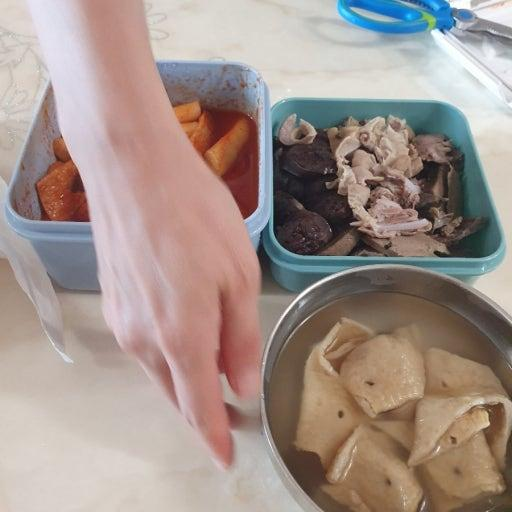Lunch Box: (261, 264, 511, 511), (263, 98, 504, 290), (157, 61, 271, 248)
